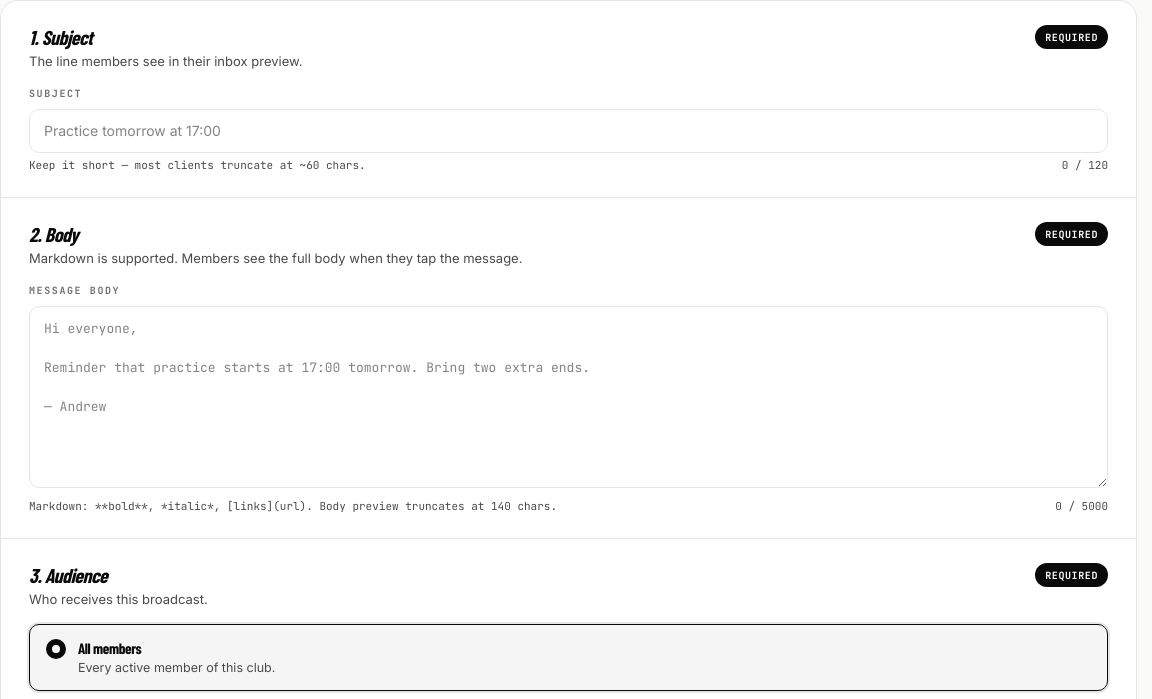
<ComposeForm /> — char counts › body count tracks the trimmed length
The width and height of the screenshot is (1152, 699).
Replace the text in the text box labelled "Message body" with "abcde fghij" at (568, 396), box 29,306 -> 1108,488
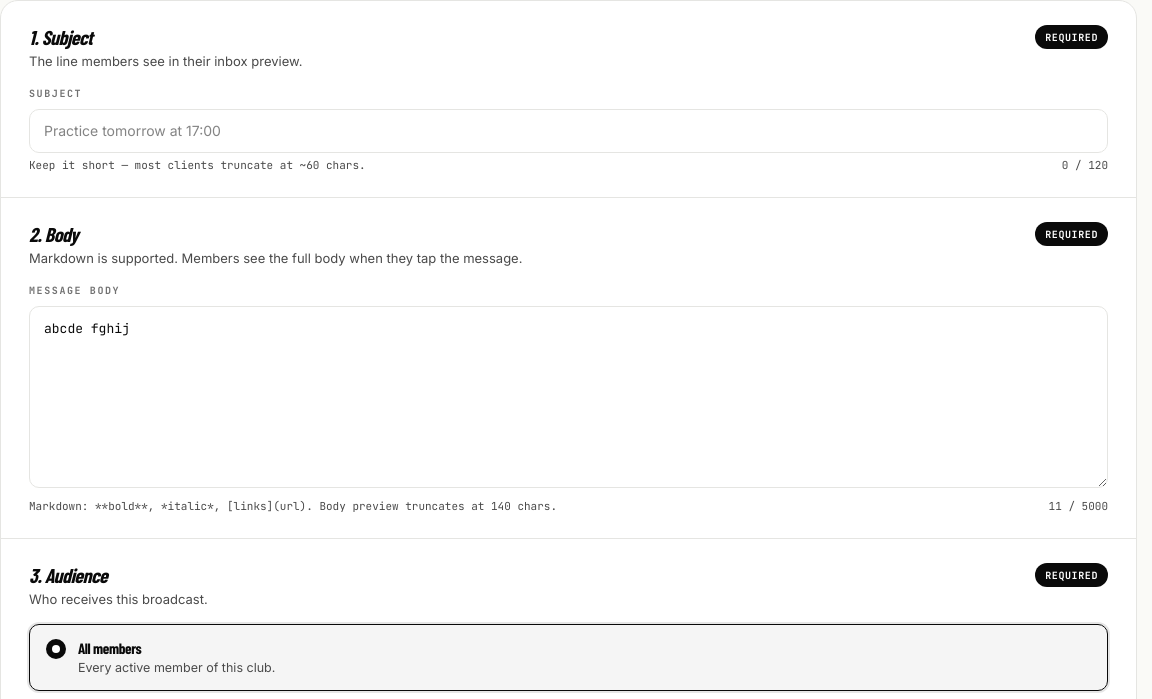
Now the text "11 / 5000" is shown, box 1049,498 -> 1108,514
